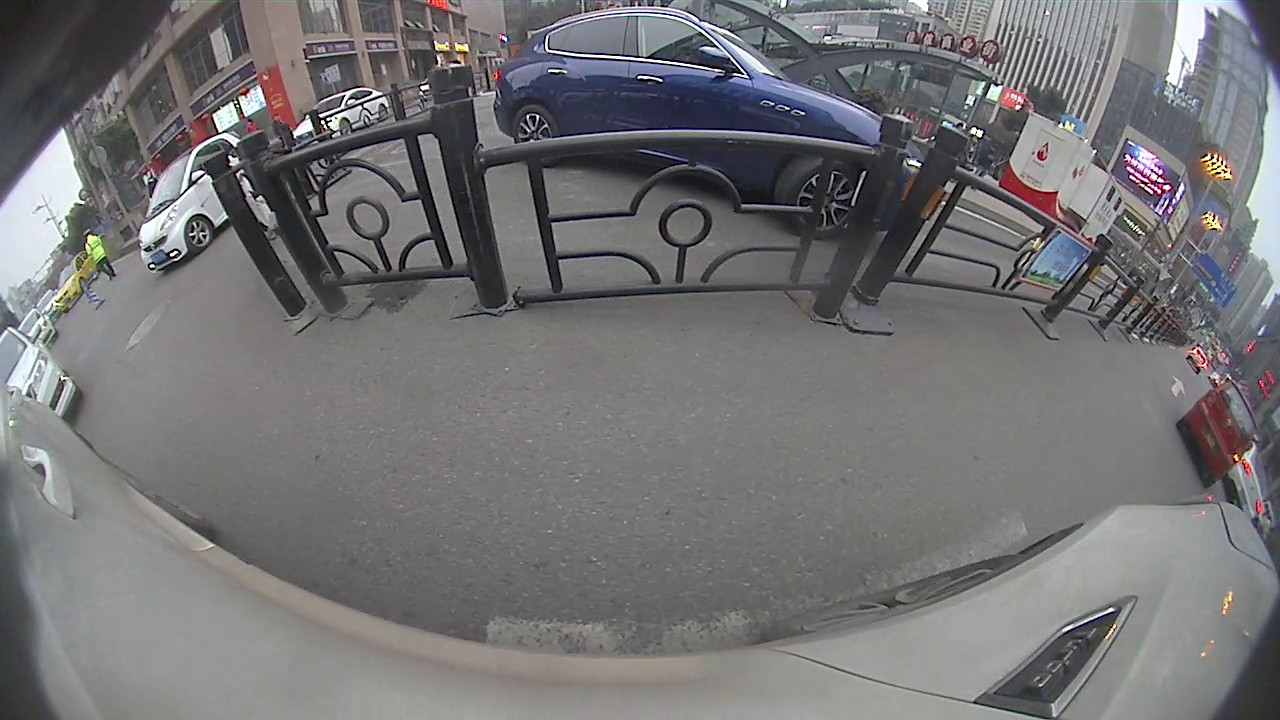car: (492, 7, 930, 243), (136, 131, 257, 274), (1177, 379, 1257, 490)
front: (782, 154, 857, 237), (183, 215, 213, 253), (338, 119, 353, 137)
person: (83, 233, 116, 287)
rear: (516, 102, 557, 160), (380, 104, 391, 122)
